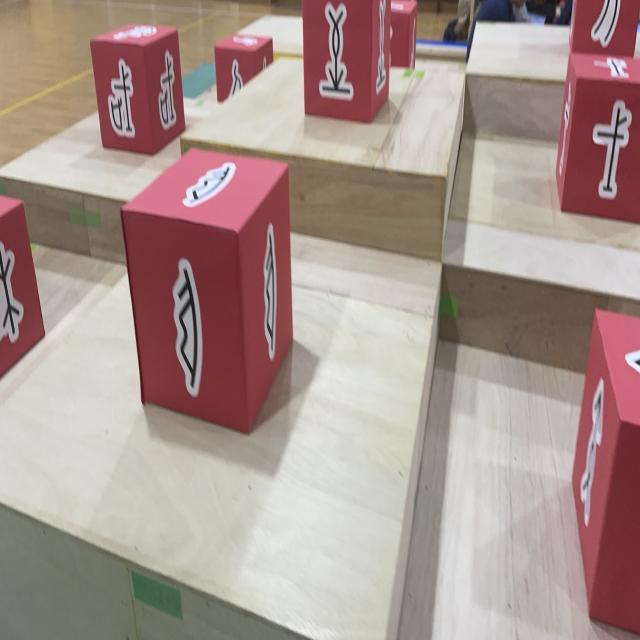10: (228, 61, 242, 98)
11: (172, 256, 202, 398), (182, 161, 237, 208), (262, 222, 278, 361)
12: (580, 378, 605, 528)
3: (590, 0, 621, 47)
5: (108, 58, 136, 138), (158, 49, 176, 131)
6: (0, 240, 24, 343)
7: (319, 2, 354, 100), (376, 0, 386, 95)
9: (592, 99, 632, 199), (559, 84, 573, 178), (592, 56, 628, 78)
fighter: (120, 146, 294, 436), (570, 308, 640, 634), (556, 52, 640, 224), (90, 23, 186, 156), (302, 0, 391, 123), (0, 195, 45, 378), (214, 32, 273, 102), (569, 0, 640, 57), (389, 0, 416, 69)
